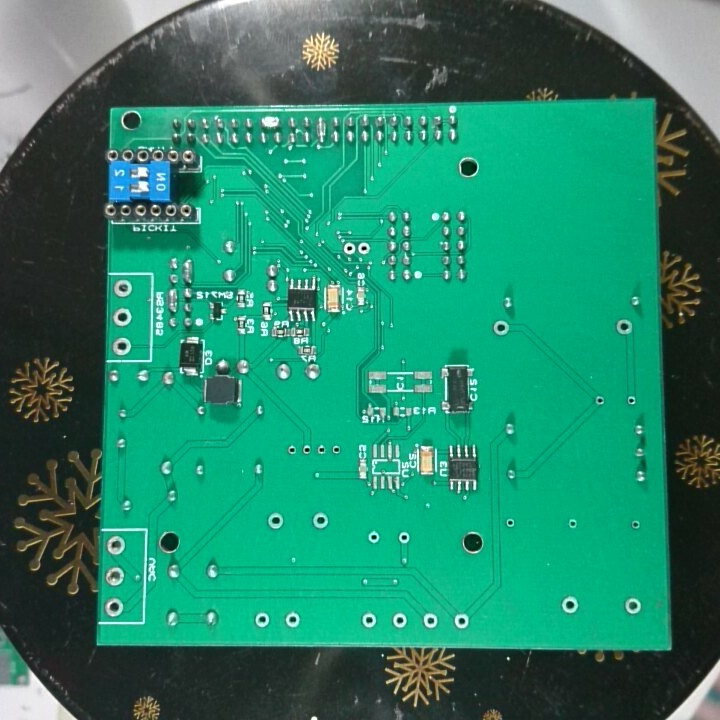F: (102, 595, 126, 620), (108, 334, 134, 357), (622, 594, 645, 619), (262, 509, 286, 532), (103, 564, 126, 588), (111, 304, 134, 327), (104, 534, 128, 555), (559, 593, 581, 615), (309, 509, 331, 531), (613, 315, 634, 338), (111, 277, 134, 298), (491, 316, 511, 339), (251, 608, 271, 631), (451, 610, 471, 632), (358, 610, 378, 632), (282, 607, 302, 629), (389, 611, 409, 632), (421, 610, 438, 631), (328, 440, 343, 463), (355, 238, 371, 259), (396, 528, 414, 546), (283, 440, 299, 460), (565, 515, 581, 534), (366, 527, 382, 546), (299, 440, 314, 460), (502, 514, 519, 531), (314, 441, 328, 461), (628, 515, 642, 534), (593, 391, 607, 409), (341, 239, 355, 256), (624, 392, 637, 407)
P: (181, 255, 197, 285), (166, 284, 181, 315), (314, 113, 328, 145), (259, 113, 283, 129)
